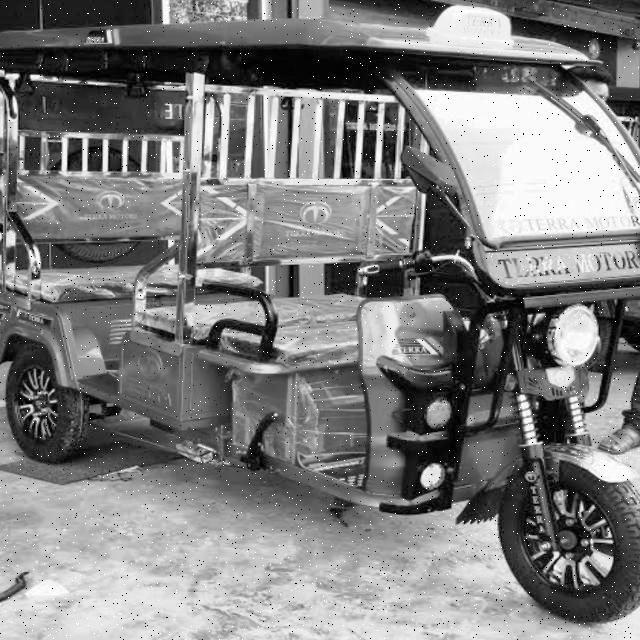Toto: (0, 17, 640, 623)
